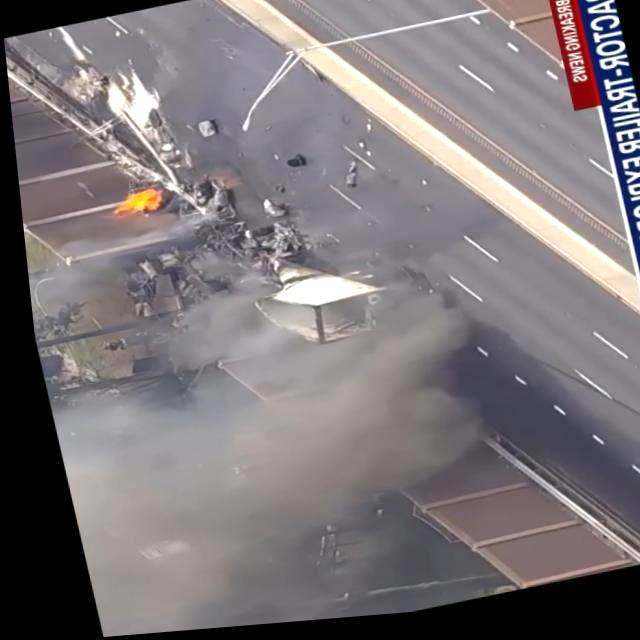fire: (96, 178, 166, 222)
